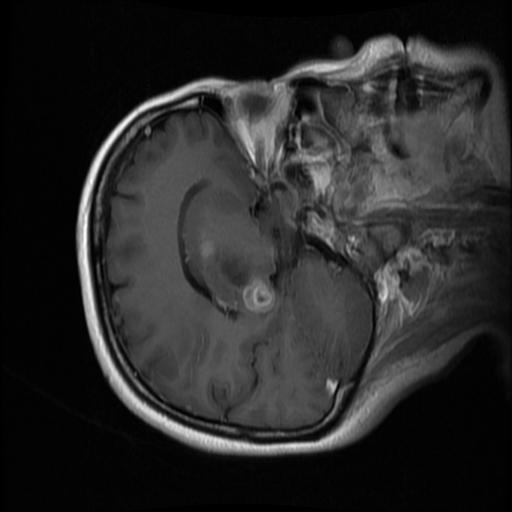glioma: (242, 278, 274, 313)
